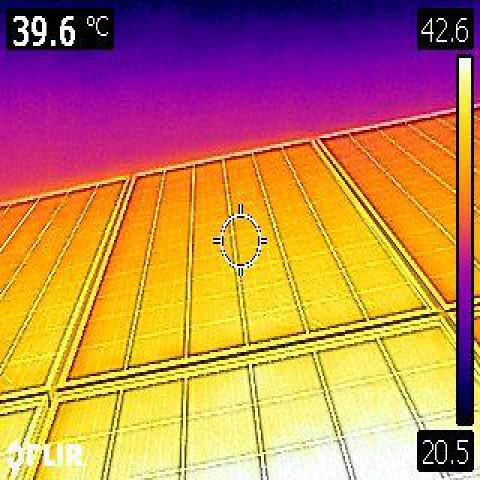fault: (262, 389, 413, 480)
